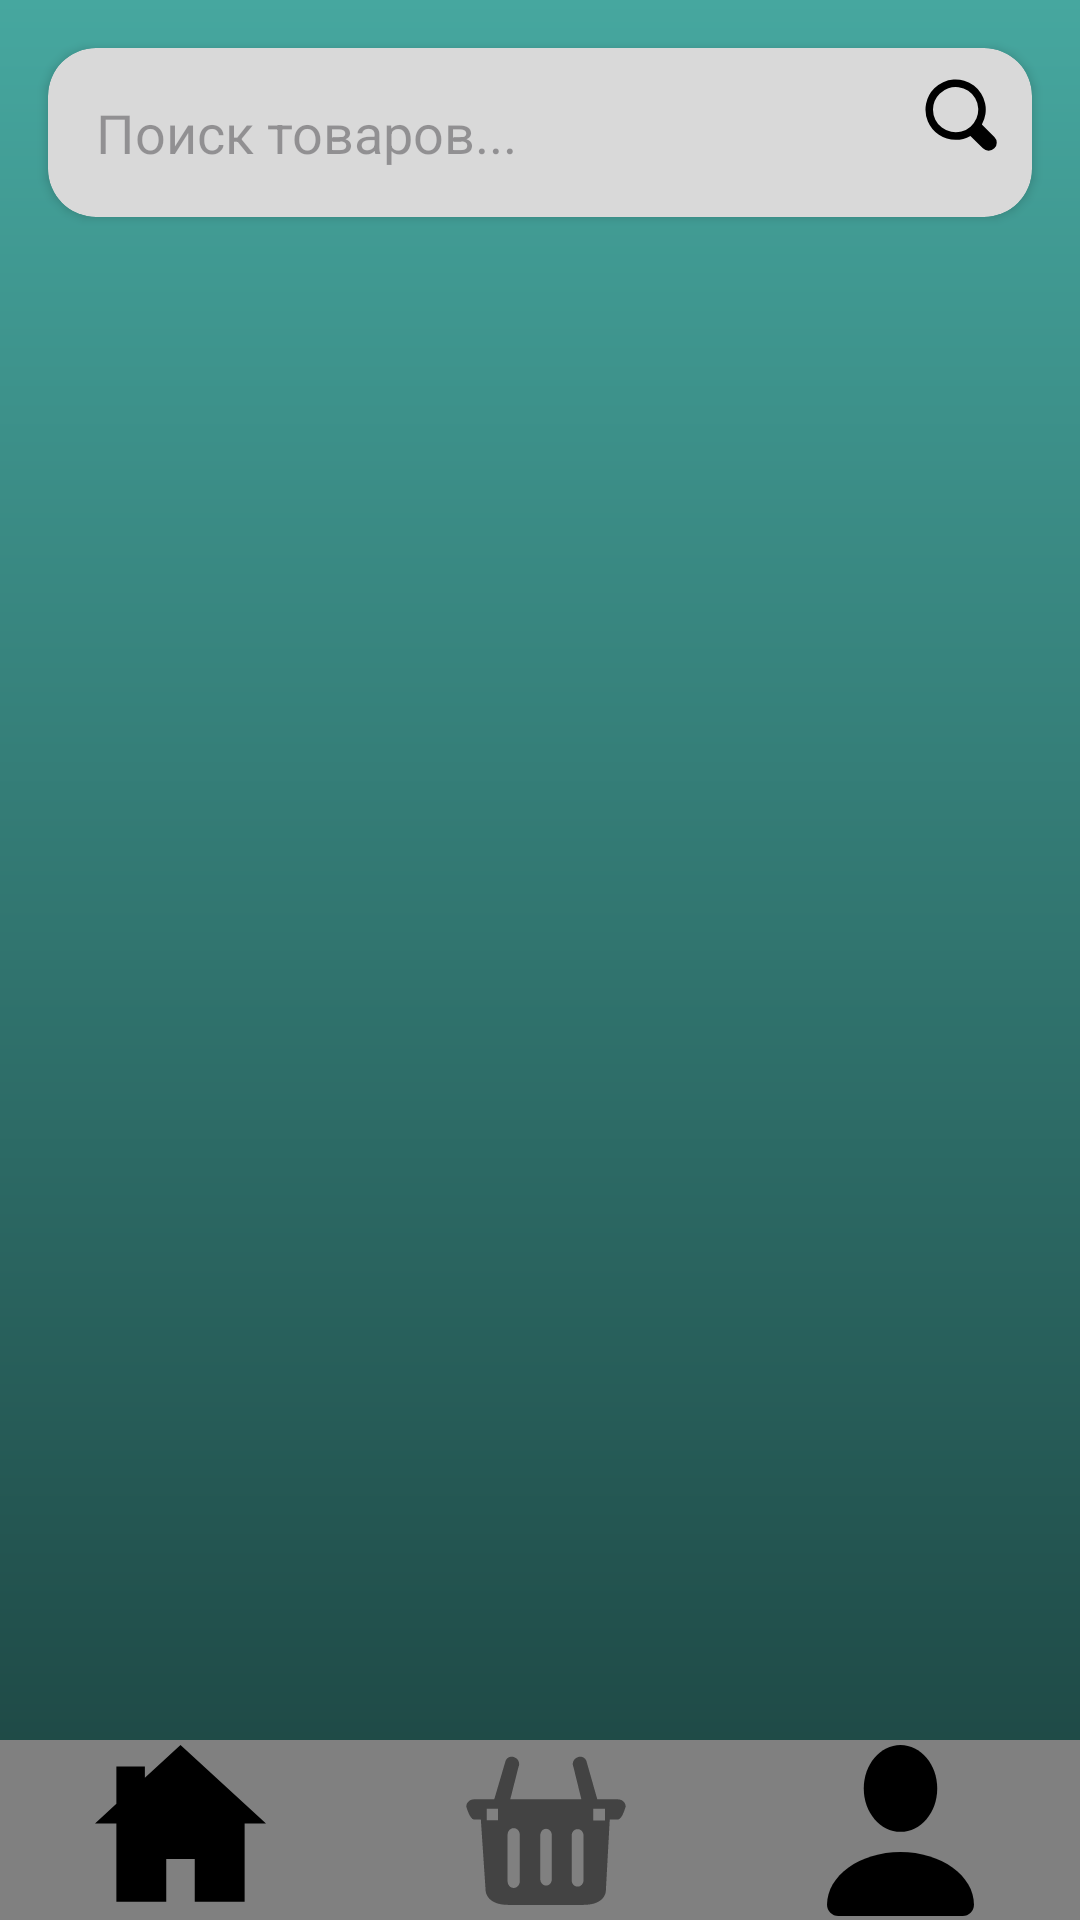

Icons on this 1080*1920 Android screen, each with the point to tap as [x,y]:
basket: [546,1831]
find: [961,115]
home: [180,1823]
